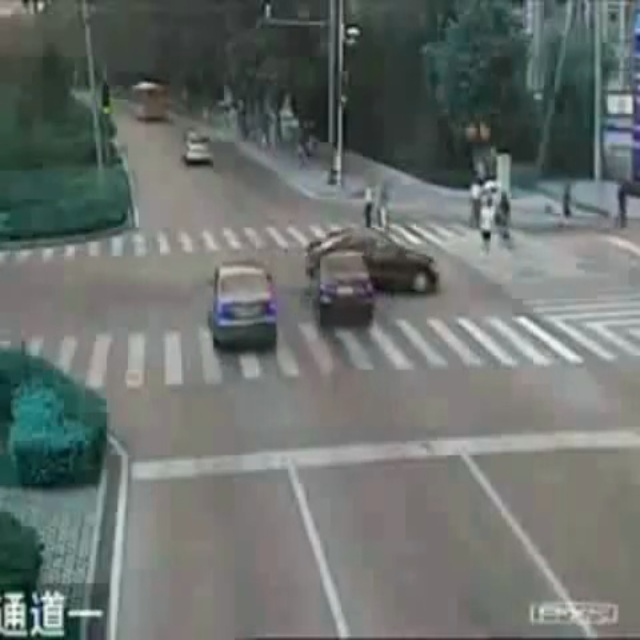acc: (303, 229, 439, 326)
